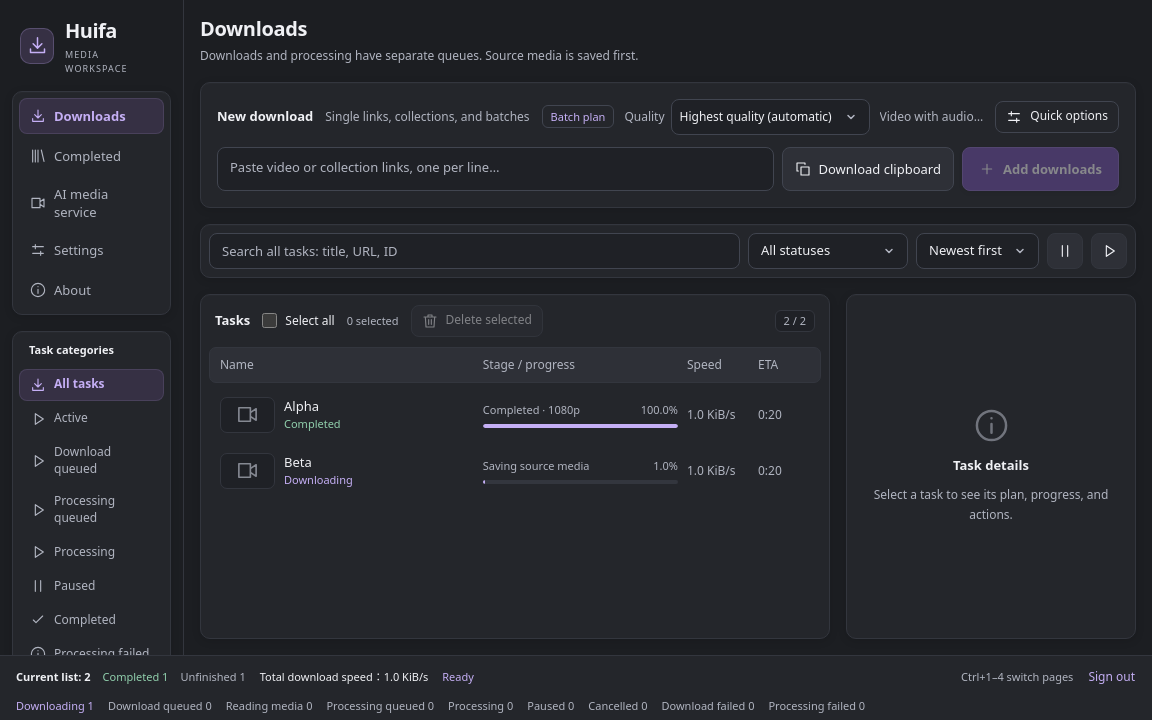
Test: live interface stability › shows actual completed quality and bytes with separate source and result details
Check: the list is shown, box [220,397,782,489]
Click the option "Alpha Completed Completed · 1080p 100.0% 1.0 KiB/s 0:20" at (515, 415), box [209,387,821,443]
(page scrolled)
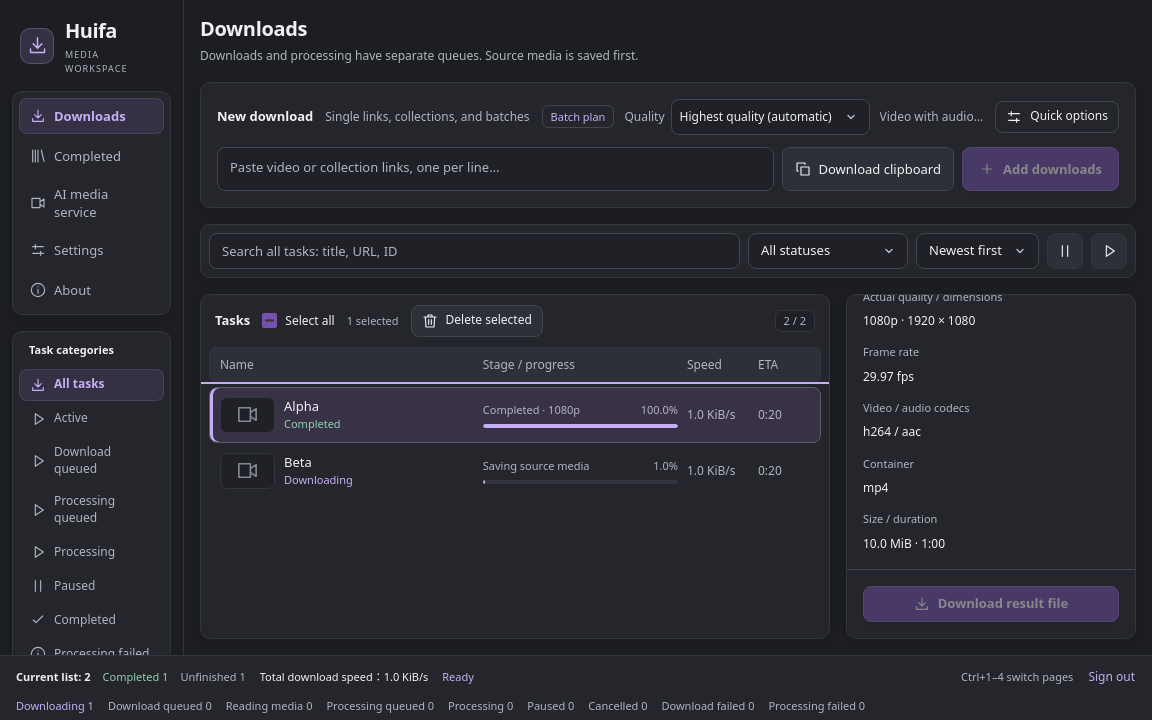
Check: the text "1080p · 1920 × 1080" is shown, box [863,312,975,329]
Check: the text "29.97 fps" is shown, box [863,368,914,385]
Check: the text "h264 / aac" is shown, box [863,423,921,440]
